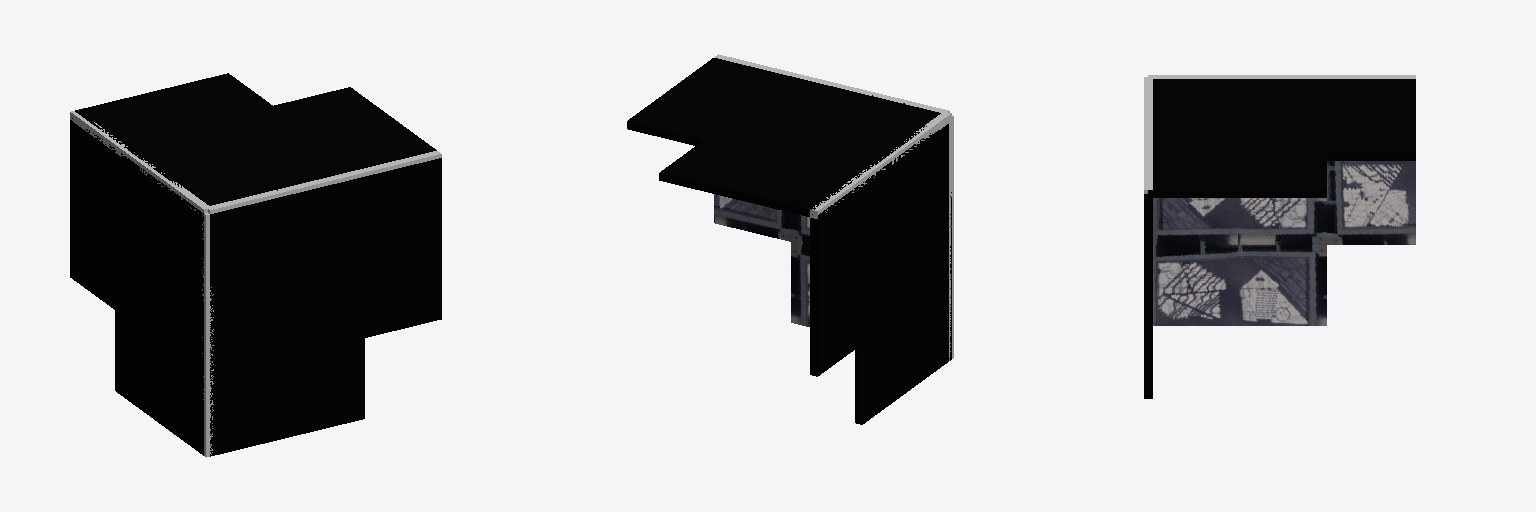
3 renders of one model, left to right at view 1: azimuth 30°, elevation 25°; view 2: azimuth 150°, elevation 25°; view 3: azimuth 270°, elevation 25°, orthographic.
Parts seen in each view (by area): view 1: Left_Cube.015, Right_Cube.014, top_Cube.016, Cube.002_Cube.003, Cube.001_Cube.002, Cube_Cube.001; view 2: Right_Cube.014, top_Cube.016, Left_Cube.015, Cube_Cube.001, Cube.002_Cube.003, Cube.001_Cube.002; view 3: Right_Cube.014, top_Cube.016, Left_Cube.015, Cube_Cube.001, Cube.002_Cube.003.
Boxes of the visible parts, <box> form: Left_Cube.015: <box>210,158,441,456</box>; Right_Cube.014: <box>70,118,203,455</box>; top_Cube.016: <box>75,73,436,205</box>; Cube.002_Cube.003: <box>208,151,441,213</box>; Cube.001_Cube.002: <box>202,213,213,457</box>; Cube_Cube.001: <box>70,111,209,213</box>; Right_Cube.014: <box>810,124,951,424</box>; top_Cube.016: <box>627,58,940,216</box>; Left_Cube.015: <box>714,194,809,326</box>; Cube_Cube.001: <box>810,113,951,218</box>; Cube.002_Cube.003: <box>714,54,949,113</box>; Cube.001_Cube.002: <box>949,115,953,360</box>; Right_Cube.014: <box>1153,161,1415,325</box>; top_Cube.016: <box>1148,79,1415,197</box>; Left_Cube.015: <box>1144,194,1152,398</box>; Cube_Cube.001: <box>1148,75,1415,78</box>; Cube.002_Cube.003: <box>1144,77,1152,193</box>.
Size of the model in its own units: 6.1 by 6.1 by 6.1.
Materials: 4 (1 with a texture image).